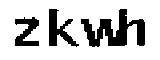h: (120, 6, 148, 51)
k: (45, 5, 79, 48)
w: (78, 15, 121, 52)
z: (12, 17, 43, 50)
